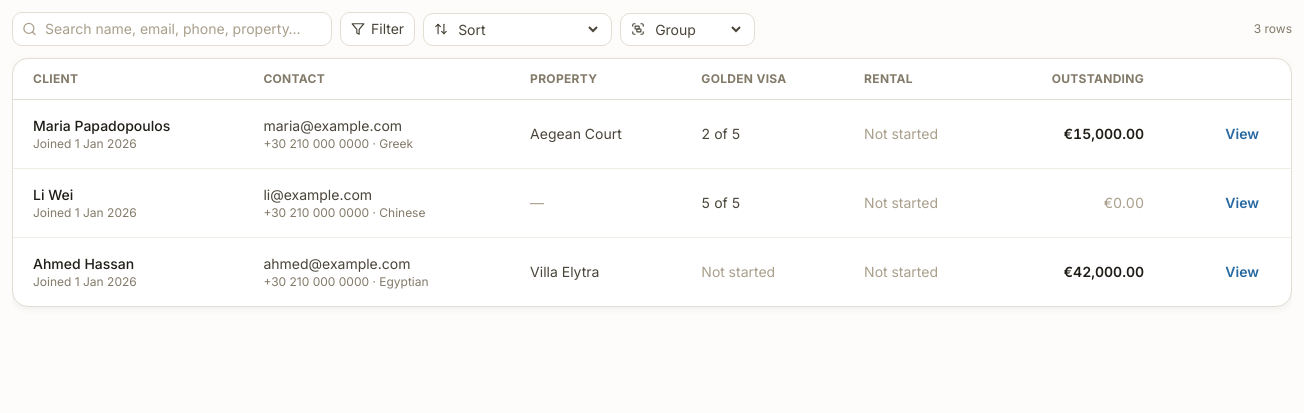
filtering the roster › filters on a client with no property, which is a real thing to look for
Click the button "Filter".
click(378, 29)  # box left=340, top=12, right=415, bottom=46
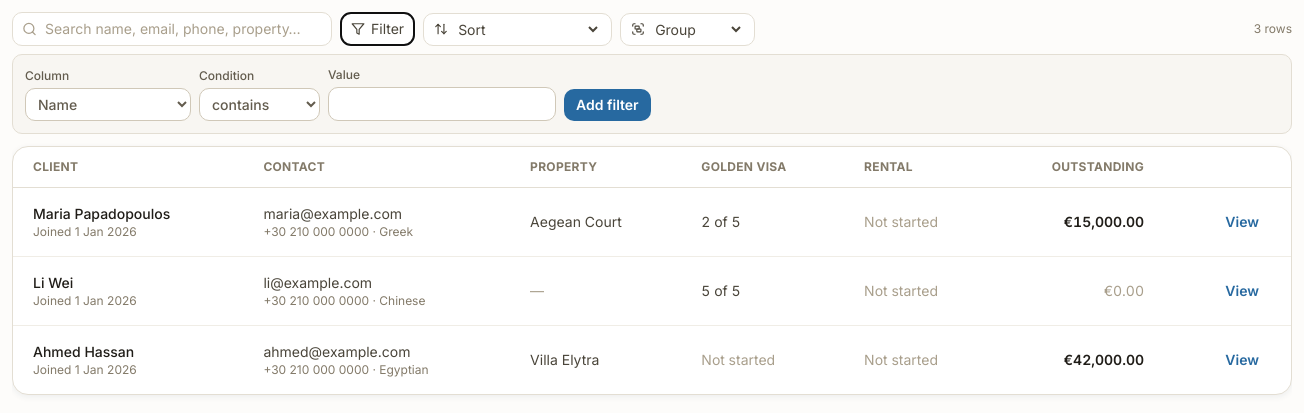
Select "Property" in the dropdown named "Filter column" at (108, 104), box left=25, top=88, right=191, bottom=121
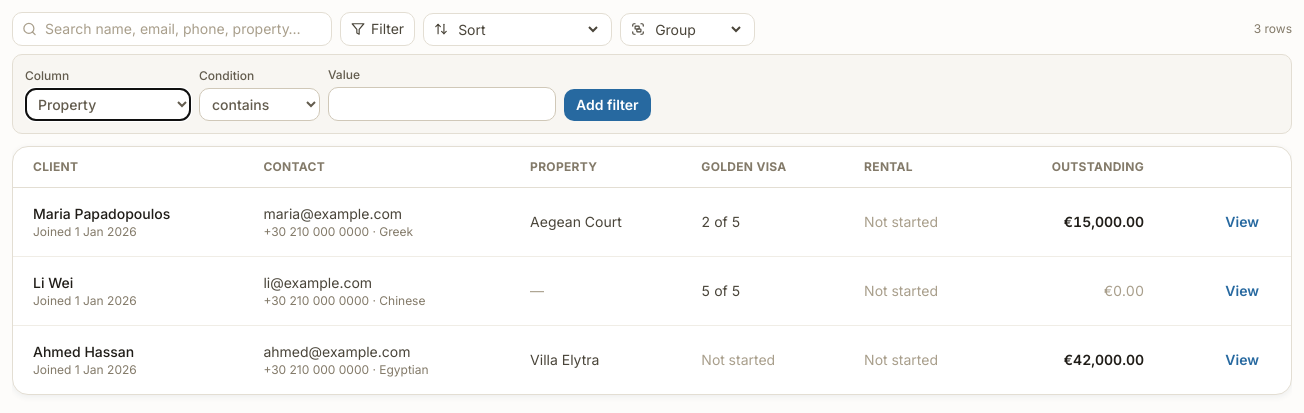
Select "is empty" in the dropdown named "Filter condition" at (260, 104), box left=199, top=88, right=320, bottom=121
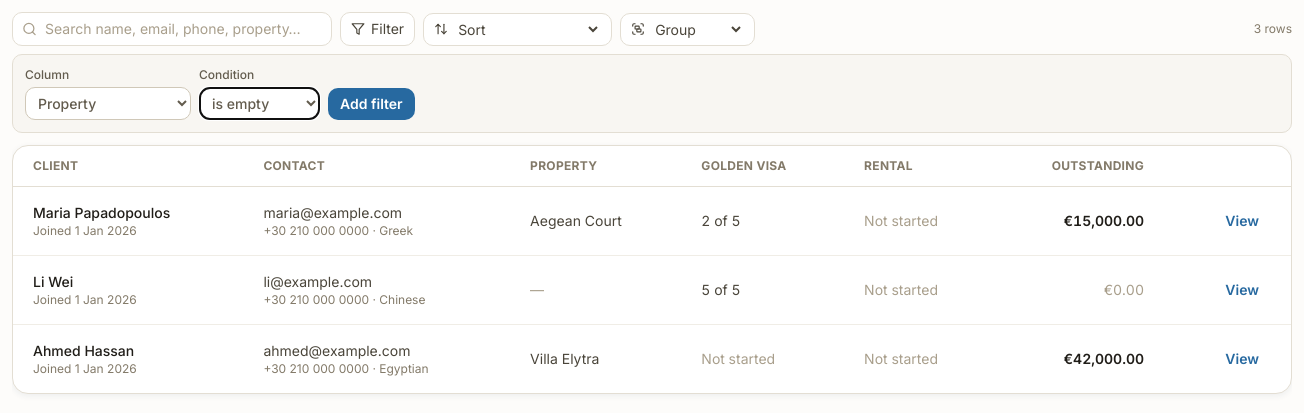
Click the button "Add filter".
click(371, 104)  # box left=328, top=88, right=415, bottom=120
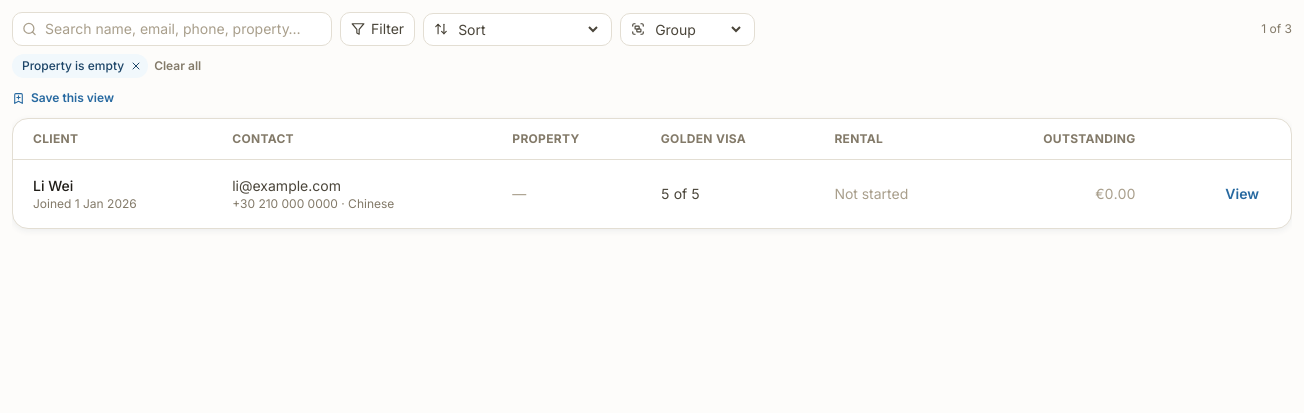
expect the text "Li Wei" is shown: met, box left=33, top=177, right=73, bottom=194
expect the text "Maria Papadopoulos" is gone: met
